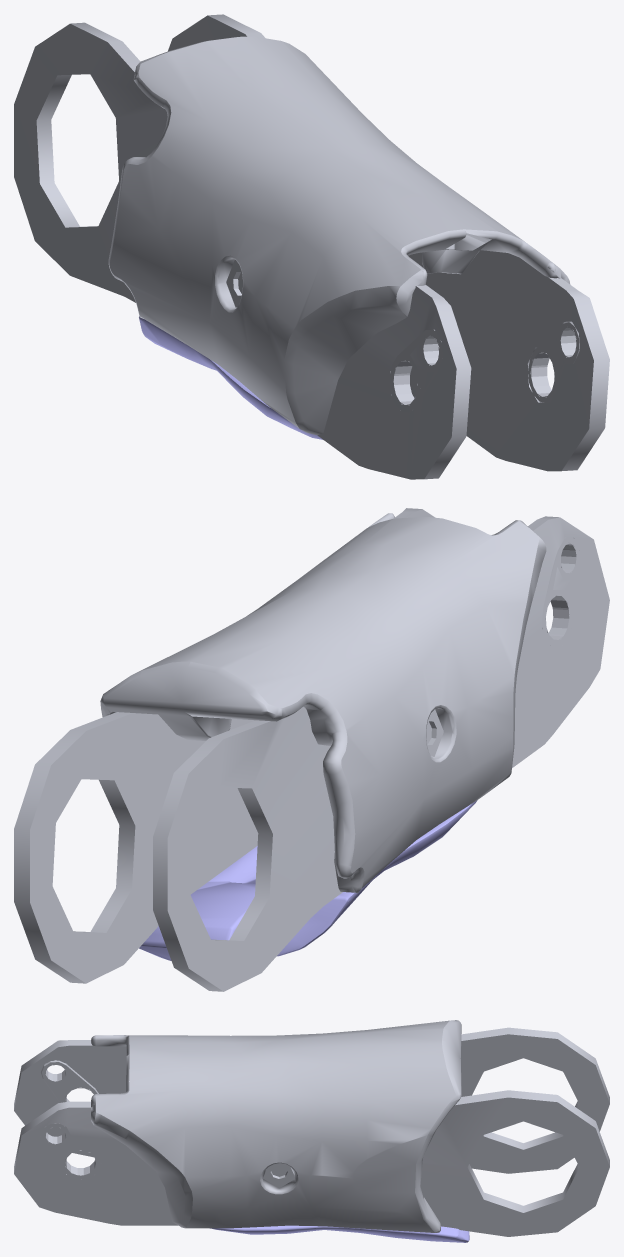
File: ExportedBlenderFBXFile.fbx
The picture shows the model from 3 angles, top to bottom: view 1: azimuth 30°, elevation 25°; view 2: azimuth 150°, elevation 25°; view 3: azimuth 270°, elevation 25°; orthographic projection. The views are drawn at different scales.
Parts seen in each view (by area): view 1: rIndProximal; view 2: rIndProximal; view 3: rIndProximal.
Boxes of the visible parts, x1,y1,x2,y2 form: rIndProximal: (14, 14, 609, 479); rIndProximal: (14, 508, 609, 991); rIndProximal: (14, 1020, 609, 1242).
Size of the model in its own units: 1.84 by 2.18 by 5.86.
